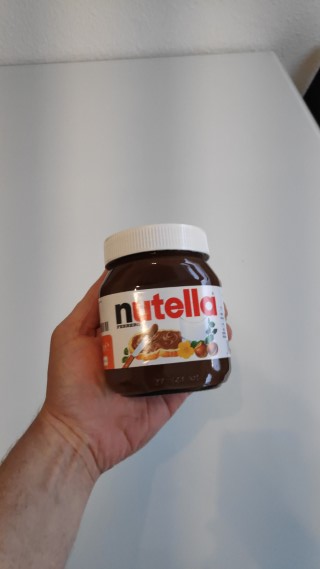nutella: (96, 222, 233, 400)
